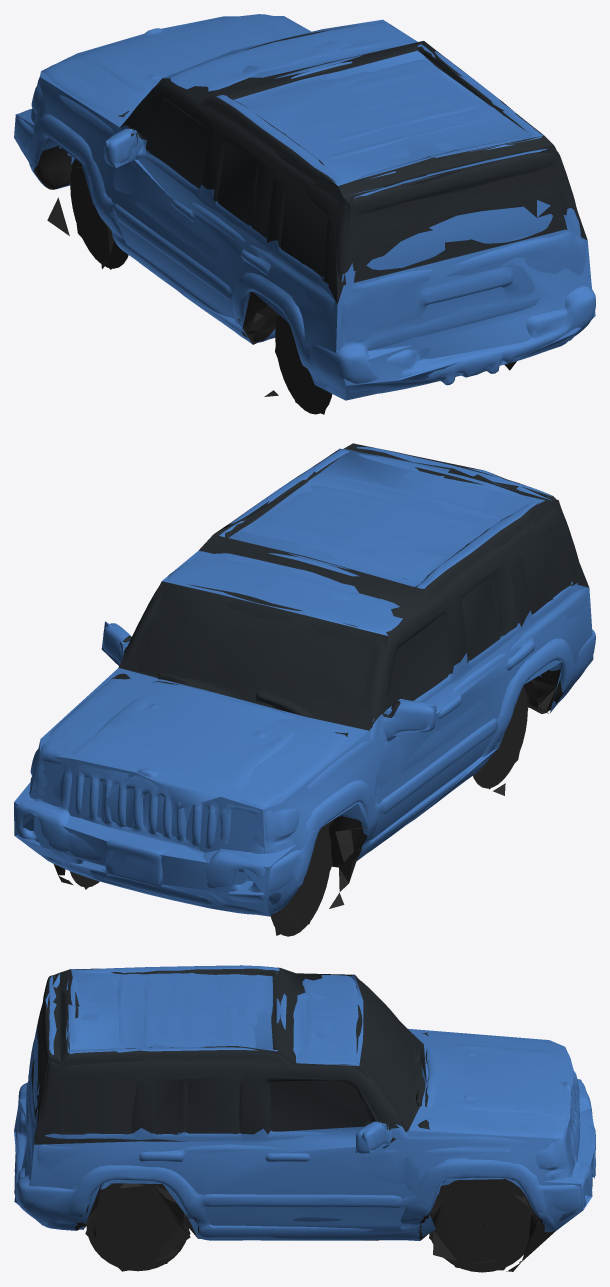
Rendered from jeep-commander.glb.
3 views of the same model, one above another, from view 1: azimuth 30°, elevation 25°; view 2: azimuth 150°, elevation 25°; view 3: azimuth 270°, elevation 25° (orthographic). The views are drawn at different scales.
Visible parts, largest first — view 1: body, far; view 2: body, far; view 3: body, far.
Part boxes in pixels (left/top/right/bottom): body: left=15, top=14, right=595, bottom=414; far: left=14, top=16, right=595, bottom=414; body: left=14, top=447, right=595, bottom=936; far: left=14, top=443, right=593, bottom=935; body: left=14, top=965, right=595, bottom=1272; far: left=14, top=967, right=594, bottom=1271.
Bounding box in the file's own units: 2.69 × 2.04 × 4.81.
